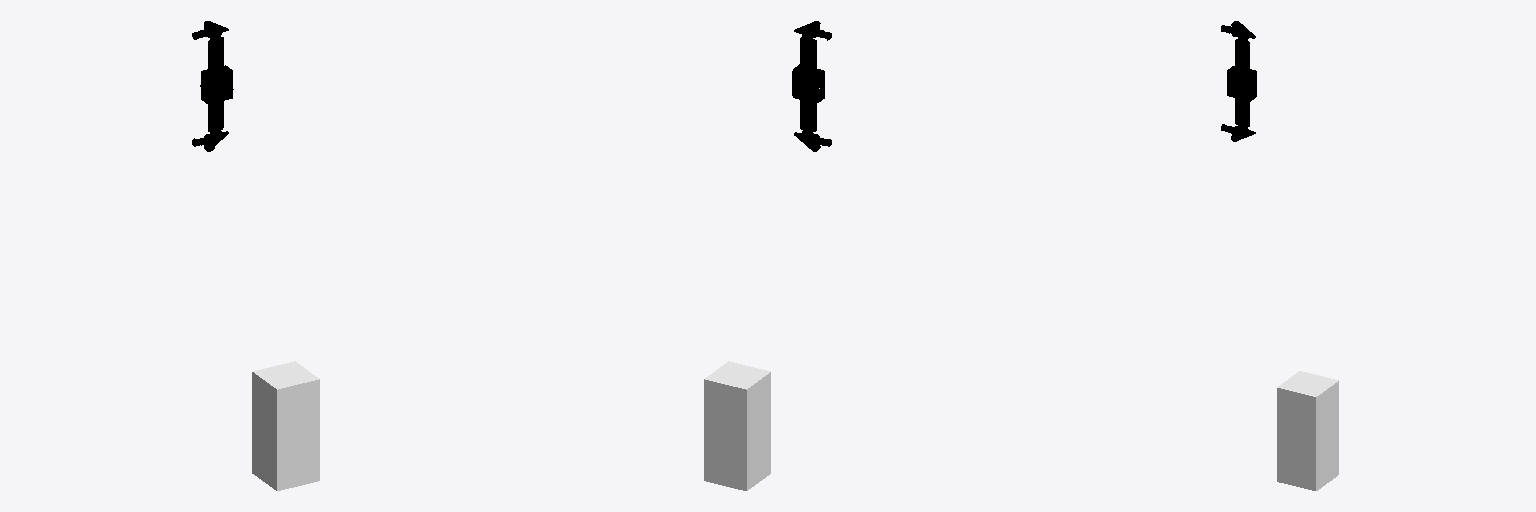
robot.urdf — aubo_i10:
<?xml version="1.0" ?>
<robot name="aubo_i10">

<!-- pedestal_link-->

  <link name="pedestal_link">
    <visual>
      <origin xyz="0 0 0.25" rpy="0 0 0" />
      <geometry>
        <box size="0.22 0.22 0.5"/>
      </geometry>
      <material name="">
        <color rgba="1 1 1 1" />
      </material>
    </visual>
    <collision>
      <origin xyz="0 0 0.25" rpy="0 0 0" />
      <geometry>
        <box size="0.22 0.22 0.5"/>
      </geometry>
    </collision>
  </link>

<!-- base_joint -->  
  <joint name="base_joint" type="fixed">
    <origin xyz="0 0 0.5" rpy="0 0 -1.5708" />
    <parent link="pedestal_link" />
    <child link="base_link" />
    <axis xyz="0 0 1" />
  </joint>
<!-- base_link-->

  <link name="base_link">
    <visual>
      <origin xyz="0 0 0" rpy="0 0 0" />
      <geometry>
        <mesh filename="package://aubo_description/meshes/aubo_i10/base_link.DAE" />
      </geometry>
      <material name="">
        <color rgba="1 1 1 1" />
      </material>
    </visual>
    <collision>
      <origin xyz="0 0 0" rpy="0 0 0" />
      <geometry>
        <mesh filename="package://aubo_description/meshes/aubo_i10/base_link.STL" />
      </geometry>
    </collision>
  </link>

<!-- shoulder_Link -->

  <link name="shoulder_Link">
    <inertial>
      <origin xyz="0.00029287 0.14173 0.54281" rpy="0 0 0" />
      <mass value="10.994" />
      <inertia ixx="2.2088" ixy="-0.00043922" ixz="-0.0025417" iyy="2.1473" iyz="-0.049088" izz="0.07998" />
    </inertial>
    <visual>
      <origin xyz="0 0 0" rpy="0 0 0" />
      <geometry>
        <mesh
          filename="package://aubo_description/meshes/aubo_i10/shoulder_Link.DAE" />
      </geometry>
      <material name="">
        <color rgba="0.89804 0.91765 0.92941 1" />
      </material>
    </visual>
    <collision>
      <origin xyz="0 0 0" rpy="0 0 0" />
      <geometry>
        <mesh filename="package://aubo_description/meshes/aubo_i10/shoulder_Link.STL" />
      </geometry>
    </collision>
  </link>

<!-- shoulder_joint -->

  <joint name="shoulder_joint" type="revolute">
    <origin xyz="0 0 0.1632" rpy="-8.7138E-17 -4.3534E-32 3.1416" />
    <parent link="base_link" />
    <child link="shoulder_Link" />
    <axis xyz="0 0 1" />
    <limit lower="-3.05" upper="3.05" effort="0" velocity="0" />
  </joint>

<!-- upperArm_Link -->

  <link name="upperArm_Link">
    <inertial>
      <origin xyz="0.31908 -3.7071E-06 -0.0042956" rpy="0 0 0" />
      <mass value="5.3139" />
      <inertia ixx="0.0095171" ixy="7.2849E-06" ixz="-6.7014E-06" iyy="0.11411" iyz="-1.1529E-06" izz="0.11411" />
    </inertial>
    <visual>
      <origin xyz="0 0 0" rpy="0 0 0" />
      <geometry>
        <mesh filename="package://aubo_description/meshes/aubo_i10/upperArm_Link.DAE" />
      </geometry>
      <material name="">
        <color rgba="0.89804 0.91765 0.92941 1" />
      </material>
    </visual>
    <collision>
      <origin xyz="0 0 0" rpy="0 0 0" />
      <geometry>
        <mesh filename="package://aubo_description/meshes/aubo_i10/upperArm_Link.STL" />
      </geometry>
    </collision>
  </link>

<!-- upperArm_Joint -->

  <joint name="upperArm_joint" type="revolute">
    <origin xyz="0 0.2013 0" rpy="-1.5708 -1.5708 0" />
    <parent link="shoulder_Link" />
    <child link="upperArm_Link" />
    <axis xyz="0 0 1" />
    <limit lower="-3.05" upper="3.05" effort="0" velocity="0" />
  </joint>

<!-- foreArm_Link -->

  <link name="foreArm_Link">
    <inertial>
      <origin xyz="0.24431 6.6794E-06 0.12549" rpy="0 0 0" />
      <mass value="3.1022" />
      <inertia ixx="0.0027288" ixy="-6.2713E-06" ixz="-0.0018082" iyy="0.097825" iyz="3.5731E-07" izz="0.097866" />
    </inertial>
    <visual>
      <origin xyz="0 0 0" rpy="0 0 0" />
      <geometry>
        <mesh filename="package://aubo_description/meshes/aubo_i10/foreArm_Link.DAE" />
      </geometry>
      <material name="">
        <color rgba="1 1 1 1" />
      </material>
    </visual>
    <collision>
      <origin xyz="0 0 0" rpy="0 0 0" />
      <geometry>
        <mesh filename="package://aubo_description/meshes/aubo_i10/foreArm_Link.STL" />
      </geometry>
    </collision>
  </link>

<!-- foreArm_Joint -->

  <joint name="foreArm_joint" type="revolute">
    <origin xyz="0.647 0 0" rpy="3.1416 -4.5954E-17 -8.4328E-17" />
    <parent link="upperArm_Link" />
    <child link="foreArm_Link" />
    <axis xyz="0 0 1" />
    <limit lower="-3.05" upper="3.05" effort="0" velocity="0" />
  </joint>

<!-- wrist1_Link -->

  <link name="wrist1_Link">
    <inertial>
      <origin xyz="5.2305E-07 0.00026581 -0.0027894" rpy="0 0 0" />
      <mass value="0.57981" />
      <inertia ixx="0.00088336" ixy="-6.425E-09" ixz="5.1594E-09" iyy="0.00046118" iyz="-1.0734E-06" izz="0.00085336" />
    </inertial>
    <visual>
      <origin xyz="0 0 0" rpy="0 0 0" />
      <geometry>
        <mesh filename="package://aubo_description/meshes/aubo_i10/wrist1_Link.DAE" />
      </geometry>
      <material name="">
        <color rgba="1 1 1 1" />
      </material>
    </visual>
    <collision>
      <origin xyz="0 0 0" rpy="0 0 0" />
      <geometry>
        <mesh filename="package://aubo_description/meshes/aubo_i10/wrist1_Link.STL" />
      </geometry>
    </collision>
  </link>

<!-- wrist1_Joint -->

  <joint name="wrist1_joint" type="revolute">
    <origin xyz="0.6005 0 0" rpy="-3.1416 -1.4294E-15 1.5708" />
    <parent link="foreArm_Link" />
    <child link="wrist1_Link" />
    <axis xyz="0 0 1" />
    <limit lower="-3.05" upper="3.05" effort="0" velocity="0" />
  </joint>

<!-- wrist2_Link -->

  <link name="wrist2_Link">
    <inertial>
      <origin xyz="-5.2305E-07 -0.00026581 -0.0027894" rpy="0 0 0" />
      <mass value="0.57981" />
      <inertia ixx="0.00088336" ixy="-6.4251E-09" ixz="-5.1594E-09" iyy="0.00046118" iyz="1.0734E-06" izz="0.00085336" />
    </inertial>
    <visual>
      <origin xyz="0 0 0" rpy="0 0 0" />
      <geometry>
        <mesh filename="package://aubo_description/meshes/aubo_i10/wrist2_Link.DAE" />
      </geometry>
      <material name="">
        <color rgba="1 1 1 1" />
      </material>
    </visual>
    <collision>
      <origin xyz="0 0 0" rpy="0 0 0" />
      <geometry>
        <mesh filename="package://aubo_description/meshes/aubo_i10/wrist2_Link.STL" />
      </geometry>
    </collision>
  </link>

<!-- wrist2_Joint -->

  <joint name="wrist2_joint" type="revolute">
    <origin xyz="0 0.1025 0" rpy="-1.5708 -7.0777E-16 -7.4101E-16" />
    <parent link="wrist1_Link" />
    <child link="wrist2_Link" />
    <axis xyz="0 0 1" />
    <limit lower="-3.05" upper="3.05" effort="0" velocity="0" />
  </joint>

<!-- wrist3_Link -->

  <link name="wrist3_Link">
    <inertial>
      <origin xyz="-2.2127E-09 0.00023722 -0.018629" rpy="0 0 0" />
      <mass value="0.13669" />
      <inertia ixx="6.0946E-05" ixy="9.3663E-12" ixz="-1.3841E-12" iyy="5.9501E-05" iyz="1.9944E-07" izz="9.6981E-05" />
    </inertial>
    <visual>
      <origin xyz="0 0 0" rpy="0 0 0" />
      <geometry>
        <mesh filename="package://aubo_description/meshes/aubo_i10/wrist3_Link.DAE" />
      </geometry>
      <material name="">
        <color rgba="1 1 1 1" />
      </material>
    </visual>
    <collision>
      <origin xyz="0 0 0" rpy="0 0 0" />
      <geometry>
        <mesh filename="package://aubo_description/meshes/aubo_i10/wrist3_Link.STL" />
      </geometry>
    </collision>
  </link>

<!-- wrist3_Joint -->

  <joint name="wrist3_joint" type="revolute">
    <origin xyz="0 -0.094 0" rpy="1.5708 0 6.7283E-16" />
    <parent link="wrist2_Link" />
    <child link="wrist3_Link" />
    <axis xyz="0 0 1" />
    <limit lower="-3.05" upper="3.05" effort="0" velocity="0" />
  </joint>

<!-- hv1000_Link -->

  <link name="hv1000_Link">
    <inertial>
      <origin xyz="0 0 0" rpy="0 0 0" />
      <mass value="2" />
      <inertia ixx="0.3" ixy="0.0" ixz="0.0" iyy="0.3" iyz="0.0" izz="0.3"/>
    </inertial>
    <visual>
      <origin xyz="0 0 0" rpy="0 0 0" />
      <geometry>
        <mesh filename="package://aubo_description/meshes/aubo_i10/HV1000.DAE" />
      </geometry>
      <material name="">
        <color rgba="0 0 0 1" />
      </material>
    </visual>
    <collision>
      <origin xyz="0 0 0" rpy="0 0 0" />
      <geometry>
        <mesh filename="package://aubo_description/meshes/aubo_i10/HV1000.STL" />
      </geometry>
    </collision>
  </link>

<!-- hv1000_Joint -->

  <joint name="hv1000_Joint" type="fixed">
    <origin xyz="0 0 0.133" rpy="-3.1415 0 -3.1415" />
    <parent link="wrist3_Link" />
    <child link="hv1000_Link" />
    <axis xyz="0 0 1" />
  </joint>

</robot>

--- What the picture shows (computed from the rendered views, not written in the file) ---
The picture shows the robot from 3 angles, left to right: view 1: azimuth 30°, elevation 25°; view 2: azimuth 150°, elevation 25°; view 3: azimuth 330°, elevation 25°; orthographic projection.
Model aubo_i10 with 9 links and 8 joints (6 revolute, 2 fixed), rooted at pedestal_link, posed all joints at 0.
Links seen in each view (by area): view 1: pedestal_link, hv1000_Link; view 2: pedestal_link, hv1000_Link; view 3: pedestal_link, hv1000_Link.
Boxes of the visible links, bbox=[...] form: pedestal_link: bbox=[252, 361, 319, 490]; hv1000_Link: bbox=[192, 21, 233, 151]; pedestal_link: bbox=[704, 361, 770, 490]; hv1000_Link: bbox=[792, 21, 831, 151]; pedestal_link: bbox=[1277, 371, 1338, 490]; hv1000_Link: bbox=[1221, 21, 1256, 141].
Bounding box of the posed robot: 0.5859 × 0.22 × 2.33 m (x, y, z).
1 mesh visuals loaded from 8 distinct referenced files (1 Collada DAE); not drawn: 7 (reference not matched to a file when rendering).